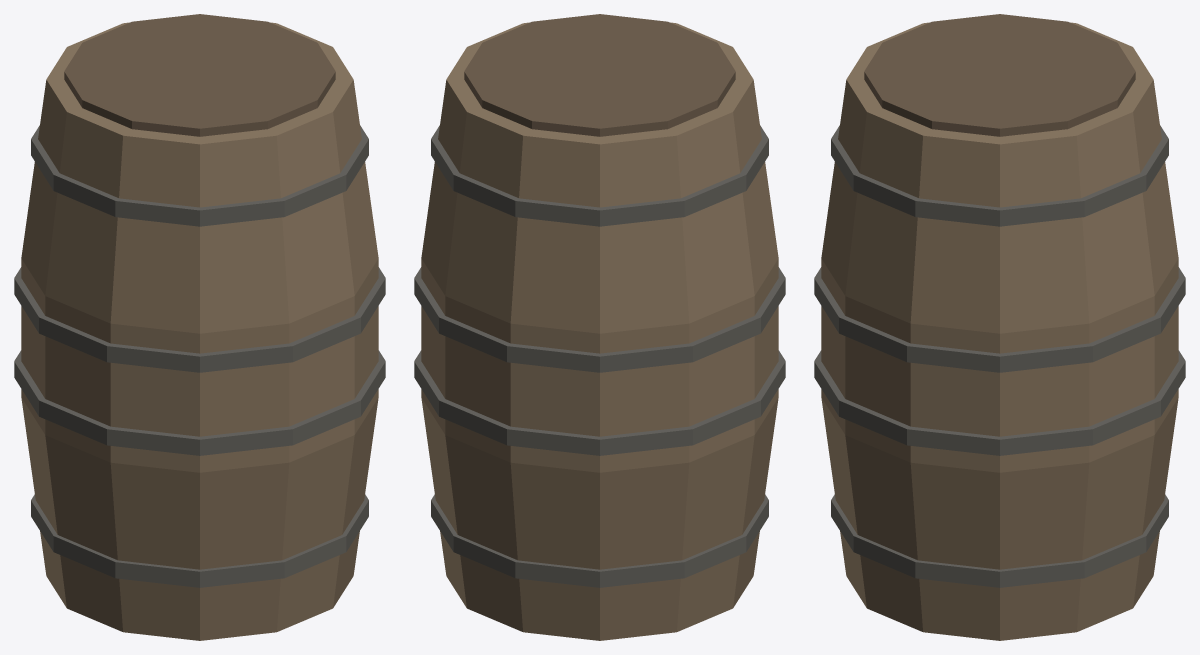
The model's file is barrel_1.glb.
The picture shows the model from 3 angles, left to right: view 1: azimuth 30°, elevation 25°; view 2: azimuth 150°, elevation 25°; view 3: azimuth 270°, elevation 25°; orthographic projection.
Visible parts, largest first — view 1: Barrel_1; view 2: Barrel_1; view 3: Barrel_1.
Part boxes in pixels (left/top/right/bottom): Barrel_1: left=14, top=14, right=385, bottom=640; Barrel_1: left=414, top=14, right=785, bottom=640; Barrel_1: left=814, top=14, right=1185, bottom=640.
Size of the model in its own units: 0.624 by 0.935 by 0.624.
